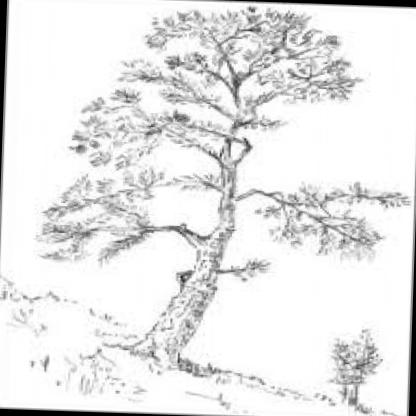root_none: (100, 306, 209, 392)
trunk_reflex: (148, 268, 224, 354)
